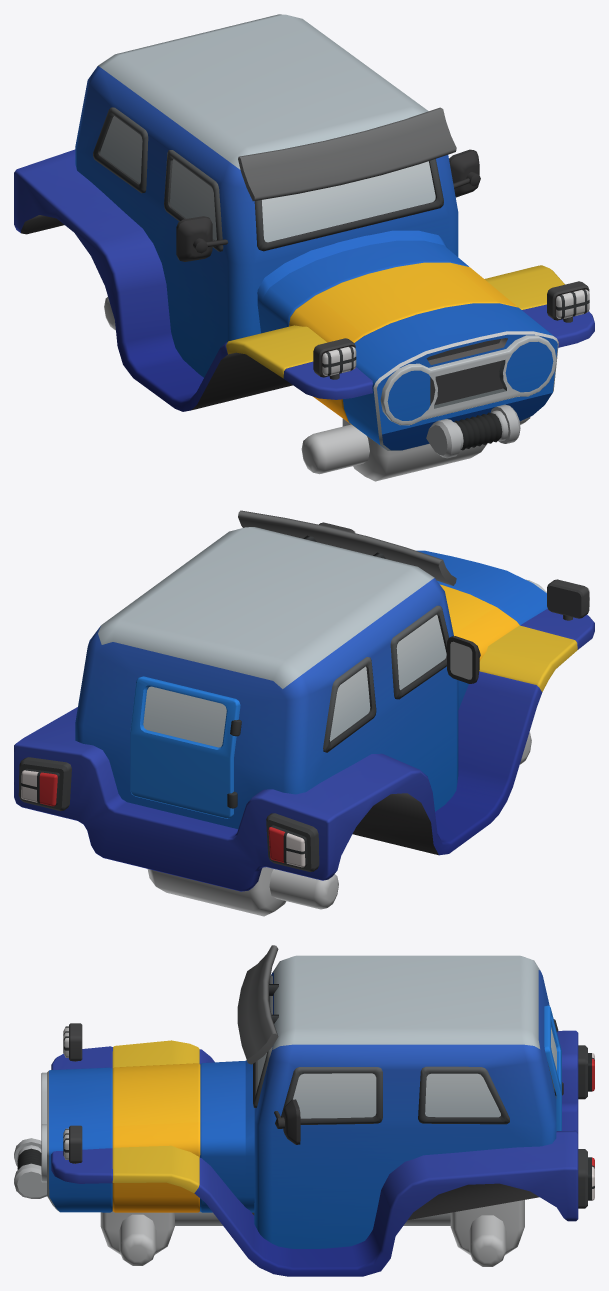
The model's file is Car_12.fbx.
3 renders of one model, top to bottom at view 1: azimuth 30°, elevation 25°; view 2: azimuth 150°, elevation 25°; view 3: azimuth 270°, elevation 25°, orthographic. The views are drawn at different scales.
Parts seen in each view (by area): view 1: Car_12; view 2: Car_12; view 3: Car_12.
Part boxes in pixels (x1,y1,x2,y2): Car_12: (14, 14, 594, 481); Car_12: (14, 510, 594, 916); Car_12: (14, 945, 594, 1276).
Bounding box in the file's own units: 184 × 327 × 154.
